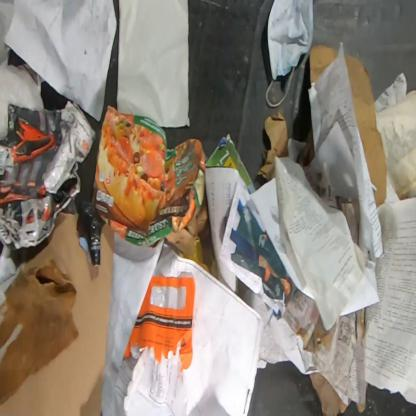cardboard: (0, 211, 116, 415), (92, 105, 206, 249), (0, 100, 95, 250), (344, 54, 387, 207), (166, 197, 210, 272), (258, 111, 288, 182), (80, 201, 104, 269), (309, 45, 338, 85)
